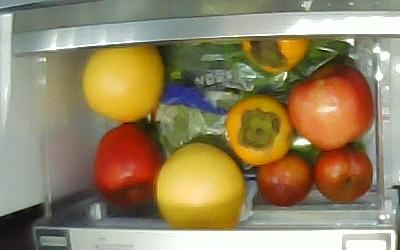apple: (288, 63, 374, 151), (93, 122, 165, 204)
grapefruit: (156, 139, 245, 228), (85, 46, 164, 121)
persimmon: (225, 93, 292, 166), (240, 38, 310, 76)
prune: (314, 144, 372, 202), (256, 150, 314, 206)
